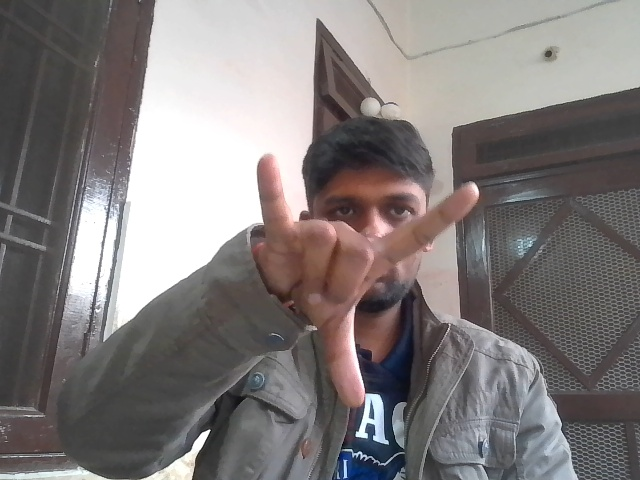ILoveYou: (245, 150, 501, 404)
